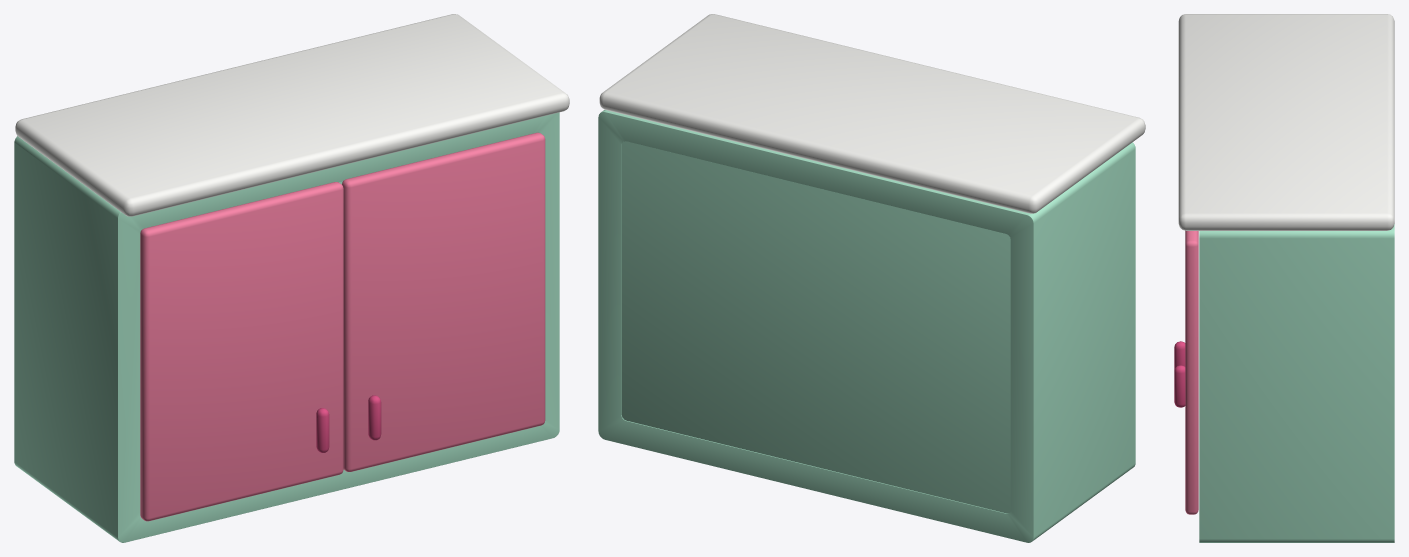
The model's file is armario_parede_2portas_moderna_menta.glb.
The picture shows the model from 3 angles, left to right: view 1: azimuth 30°, elevation 25°; view 2: azimuth 150°, elevation 25°; view 3: azimuth 270°, elevation 25°; orthographic projection. The views are drawn at different scales.
Visible parts, largest first — view 1: armario_parede_2portas_moderna_menta, porta_1, porta_2; view 2: armario_parede_2portas_moderna_menta; view 3: armario_parede_2portas_moderna_menta, porta_2, porta_1.
Part boxes in pixels (box(x1,y1,x2,y2)): armario_parede_2portas_moderna_menta: box(14, 14, 569, 542); porta_1: box(140, 182, 343, 521); porta_2: box(342, 132, 545, 471); armario_parede_2portas_moderna_menta: box(598, 14, 1145, 542); armario_parede_2portas_moderna_menta: box(1178, 14, 1394, 542); porta_2: box(1174, 230, 1198, 514); porta_1: box(1174, 341, 1185, 369).
Size of the model in its own units: 0.798 by 0.6 by 0.363.
Materials: 1 (1 with a texture image).
